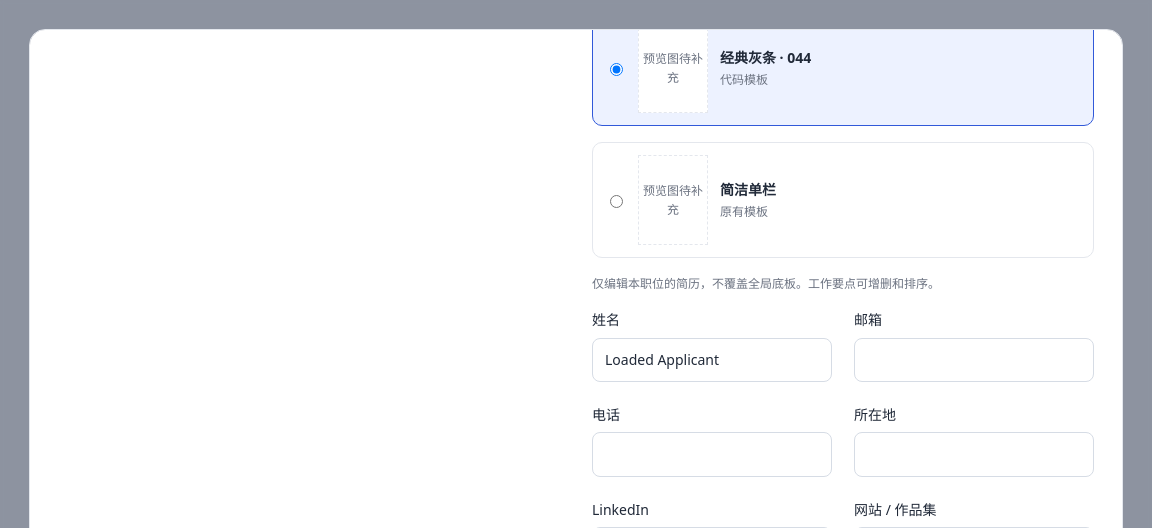
job editor and PDF templates › posts the selected template with the latest edited profile and restores saved download links
This screenshot has width=1152, height=528.
(page scrolled)
Replace the text in the field labelled "姓名" with "Latest Applicant" at point(712, 360), box [592, 338, 832, 382]
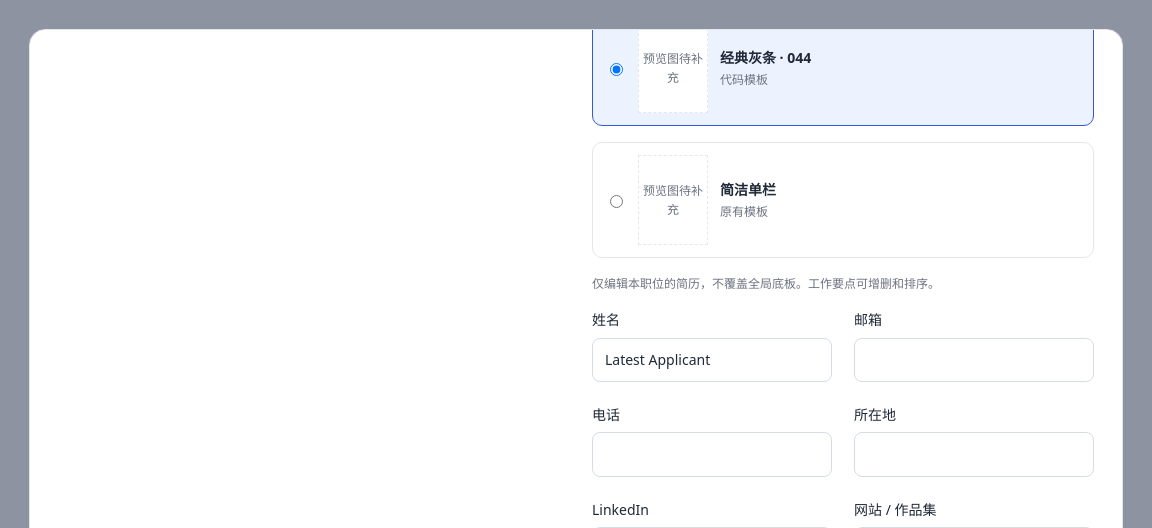
Click the radio button labelled "预览图待补充 简洁单栏 原有模板" at point(616, 202), box [610, 195, 623, 208]
(page scrolled)
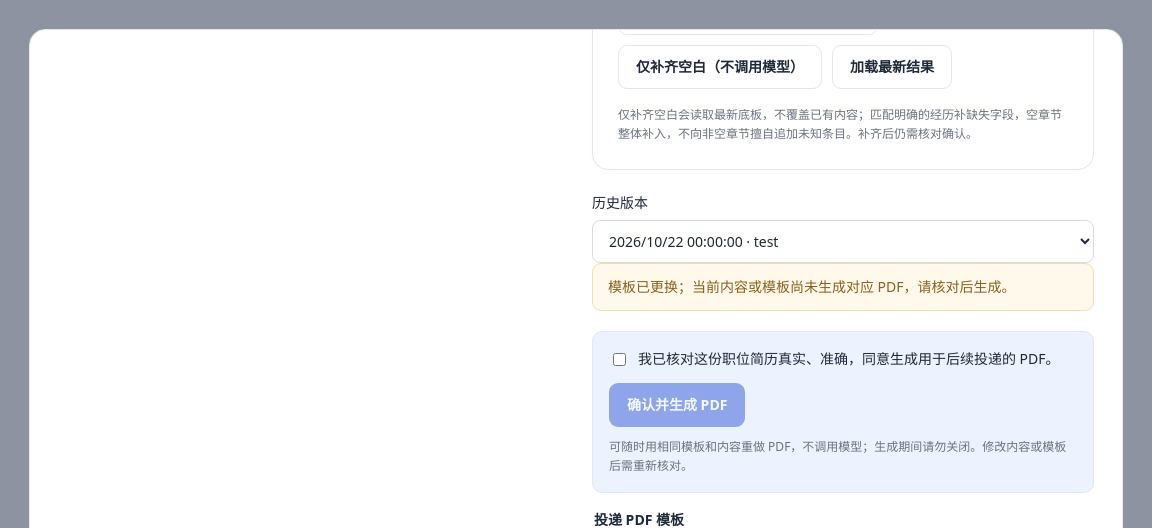
Click the checkbox labelled "我已核对这份职位简历真实、准确，同意生成用于后续投递的 PDF。" at point(620, 360), box [613, 353, 626, 366]
(page scrolled)
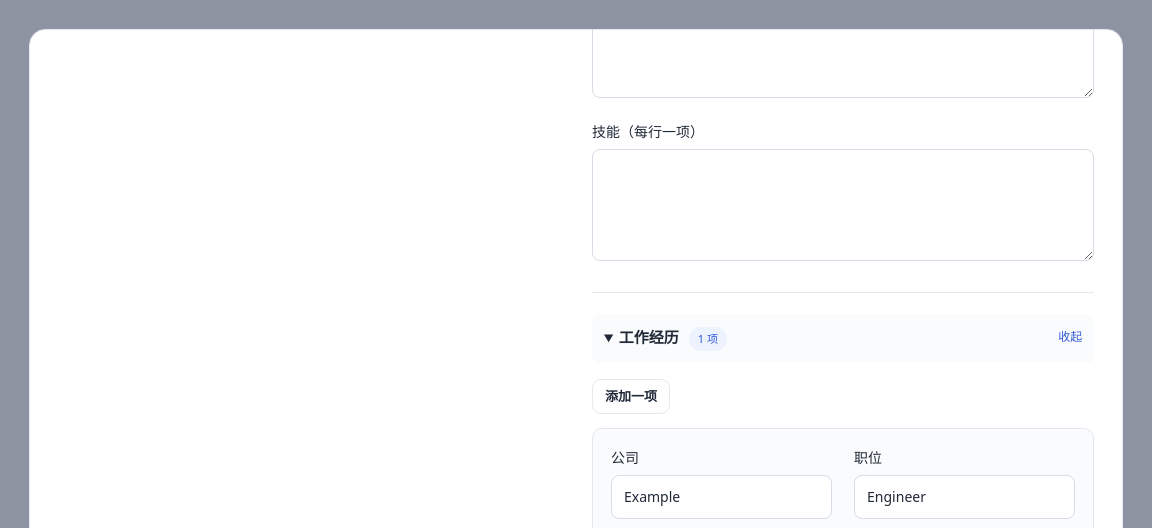
Submit the form
(page scrolled)
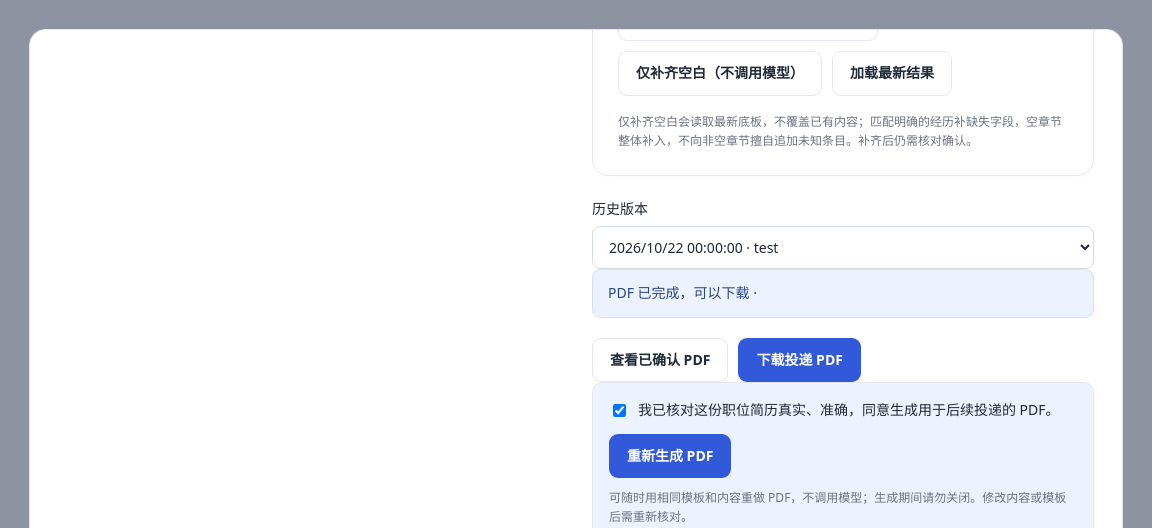
Result: the link "下载投递 PDF" is shown at [738, 338, 861, 382]
